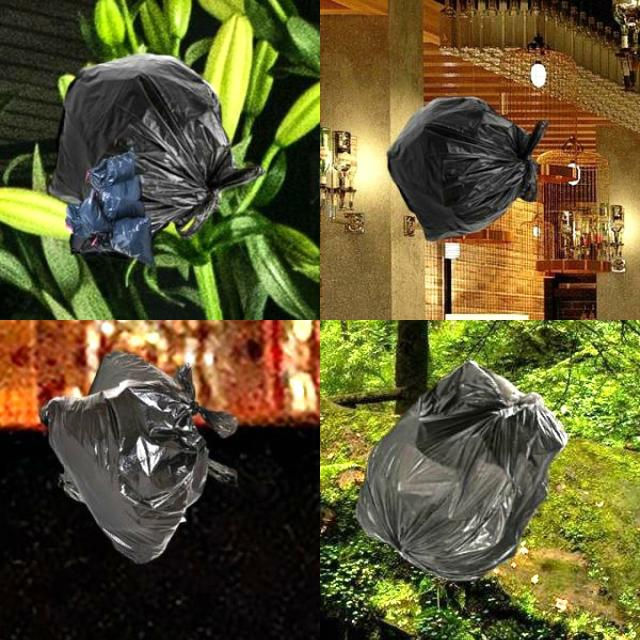Single-layer Plastic: (356, 361, 568, 581), (50, 54, 261, 265), (40, 351, 238, 563), (388, 98, 549, 241)
